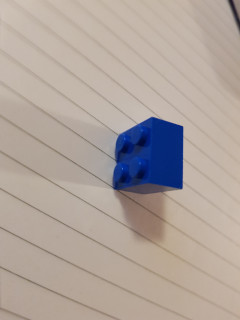2x2 blue: (112, 116, 184, 195)
